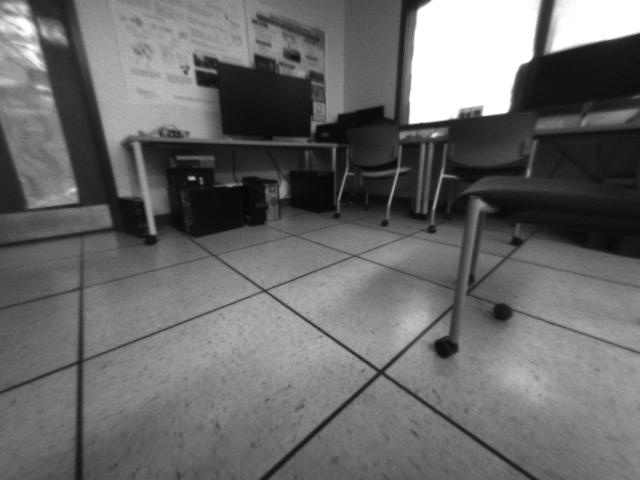dogtoy: (487, 295, 517, 322)
